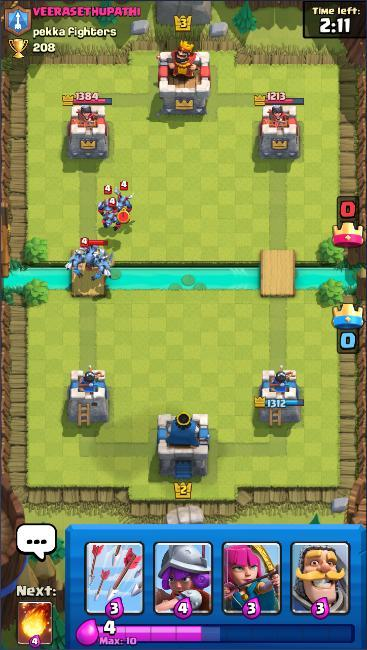ally_minion: (64, 247, 90, 279), (90, 251, 114, 283), (76, 243, 104, 269)
enemy_mini_pekka: (78, 236, 111, 272)
enemy_minion: (112, 179, 135, 215), (97, 183, 119, 218), (102, 197, 123, 232)
